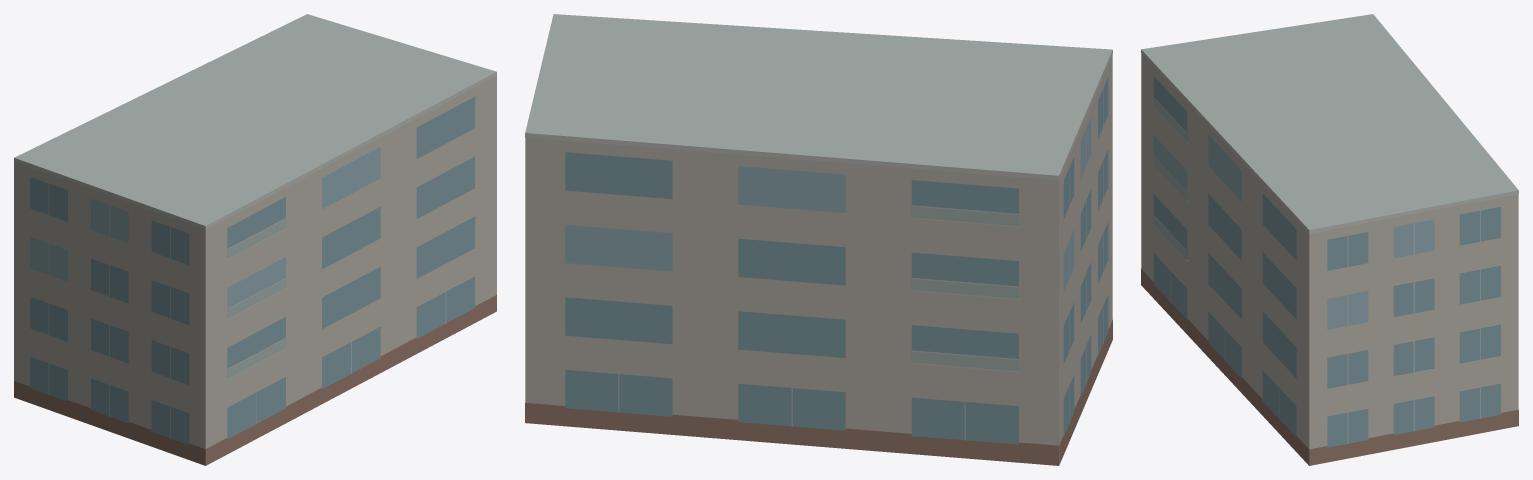
The model's file is survey-upis-32856666.glb.
3 renders of one model, left to right at view 1: azimuth 30°, elevation 25°; view 2: azimuth 150°, elevation 25°; view 3: azimuth 270°, elevation 25°, orthographic. The views are drawn at different scales.
Visible parts, largest first — view 1: survey-upis-32856666.tmp; view 2: survey-upis-32856666.tmp; view 3: survey-upis-32856666.tmp.
Part boxes in pixels (bbox=[...]): survey-upis-32856666.tmp: bbox=[14, 14, 496, 465]; survey-upis-32856666.tmp: bbox=[525, 14, 1112, 465]; survey-upis-32856666.tmp: bbox=[1141, 14, 1518, 465].
Size of the model in its own units: 30.18 by 15.35 by 22.29.
